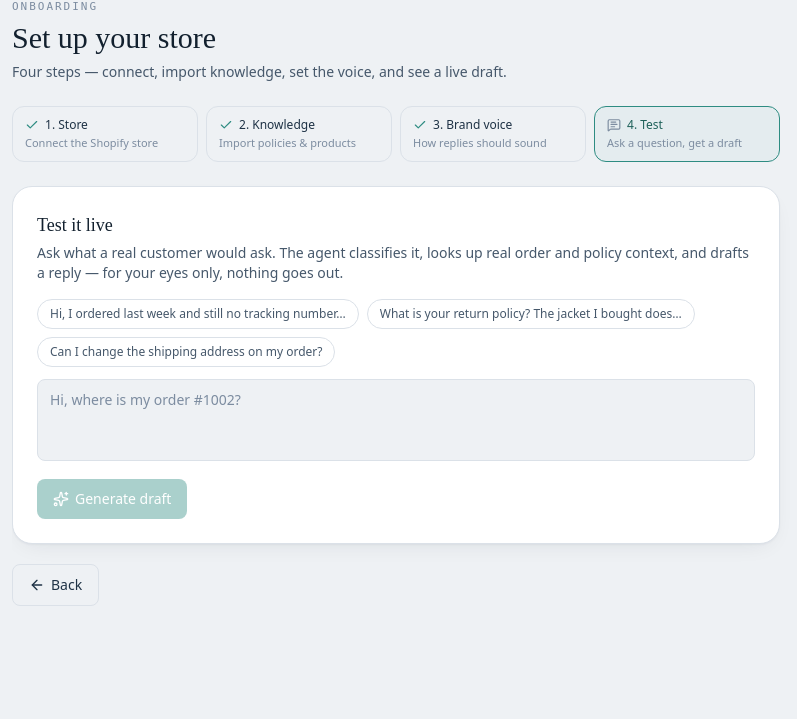
SetupPage › shows a clear 'nothing was sent' reassurance after generating a draft
Expected: the heading "Test it live" is shown, [37, 215, 113, 235]
Type "Where is my order #1002?" into the text box with placeholder "Hi, where is my order #1002?" at [396, 420], box [37, 379, 755, 461]
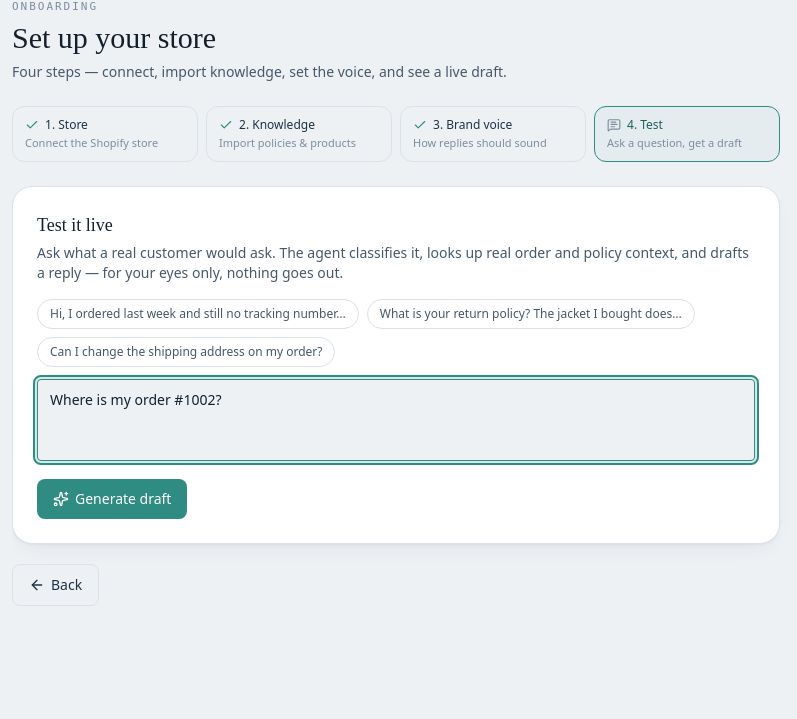
Click the button "Generate draft" at [112, 499], box [37, 479, 187, 519]
(page scrolled)
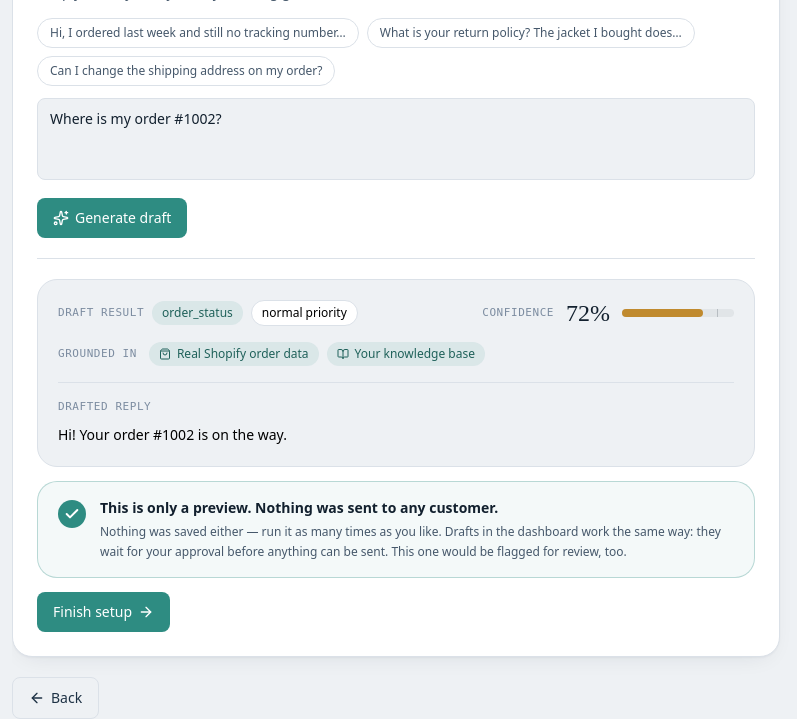
Result: the text "This is only a preview. Nothing was sent to any customer." is shown at [100, 498, 498, 517]
Result: the button "Finish setup" is shown at [37, 592, 170, 632]
